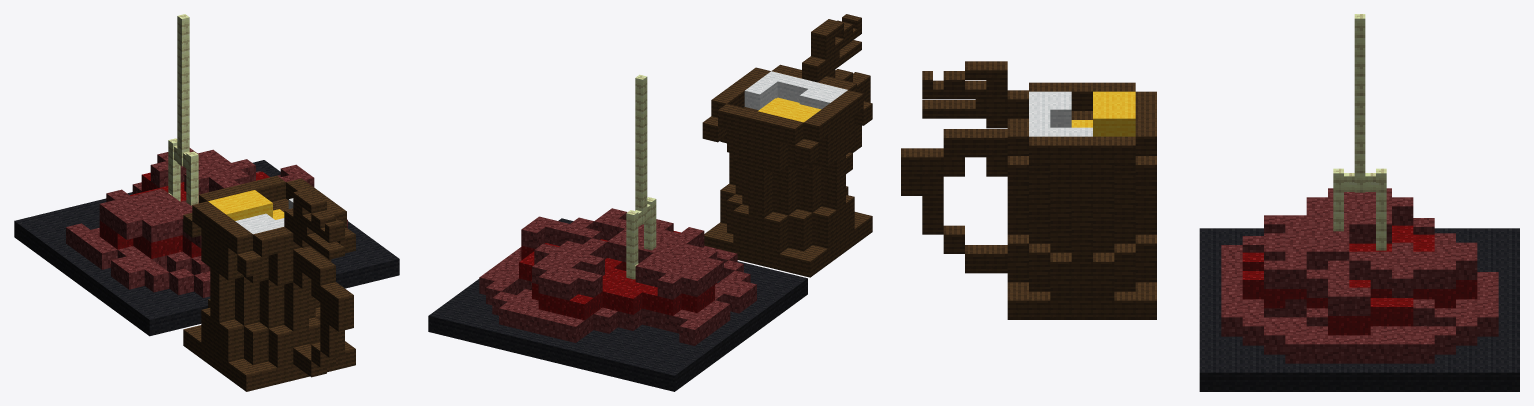
File: food.glb
3 renders of one model, left to right at view 1: azimuth 30°, elevation 25°; view 2: azimuth 150°, elevation 25°; view 3: azimuth 270°, elevation 25°, orthographic. The views are drawn at different scales.
Parts seen in each view (by area): view 1: node_1, node_2, node_5, node_8, node_6, node_7, node_3, node_4; view 2: node_2, node_1, node_5, node_4, node_8, node_6, node_7, node_3; view 3: node_1, node_2, node_4, node_3, node_5, node_8, node_7, node_6.
Part boxes in pixels (box(x1,y1,x2,y2)): node_1: box(194, 175, 355, 377); node_2: box(106, 14, 347, 295); node_5: box(183, 191, 277, 364); node_8: box(14, 209, 177, 322); node_6: box(66, 200, 169, 292); node_7: box(131, 295, 277, 391); node_3: box(179, 246, 399, 384); node_4: box(61, 160, 381, 254); node_2: box(479, 74, 743, 342); node_1: box(702, 14, 870, 263); node_5: box(779, 80, 872, 251); node_4: box(428, 279, 719, 380); node_8: box(628, 282, 790, 391); node_6: box(673, 258, 756, 345); node_7: box(750, 212, 872, 306); node_3: box(558, 218, 779, 274); node_1: box(901, 61, 1242, 336); node_2: box(1242, 14, 1498, 363); node_4: box(1242, 255, 1519, 391); node_3: box(1007, 255, 1242, 391); node_5: box(1029, 82, 1156, 119); node_8: box(1242, 228, 1519, 255); node_7: box(1199, 228, 1242, 255); node_6: box(1328, 188, 1434, 234).
Size of the model in its own units: 16 by 15 by 29.
1 material, 1 textured.
